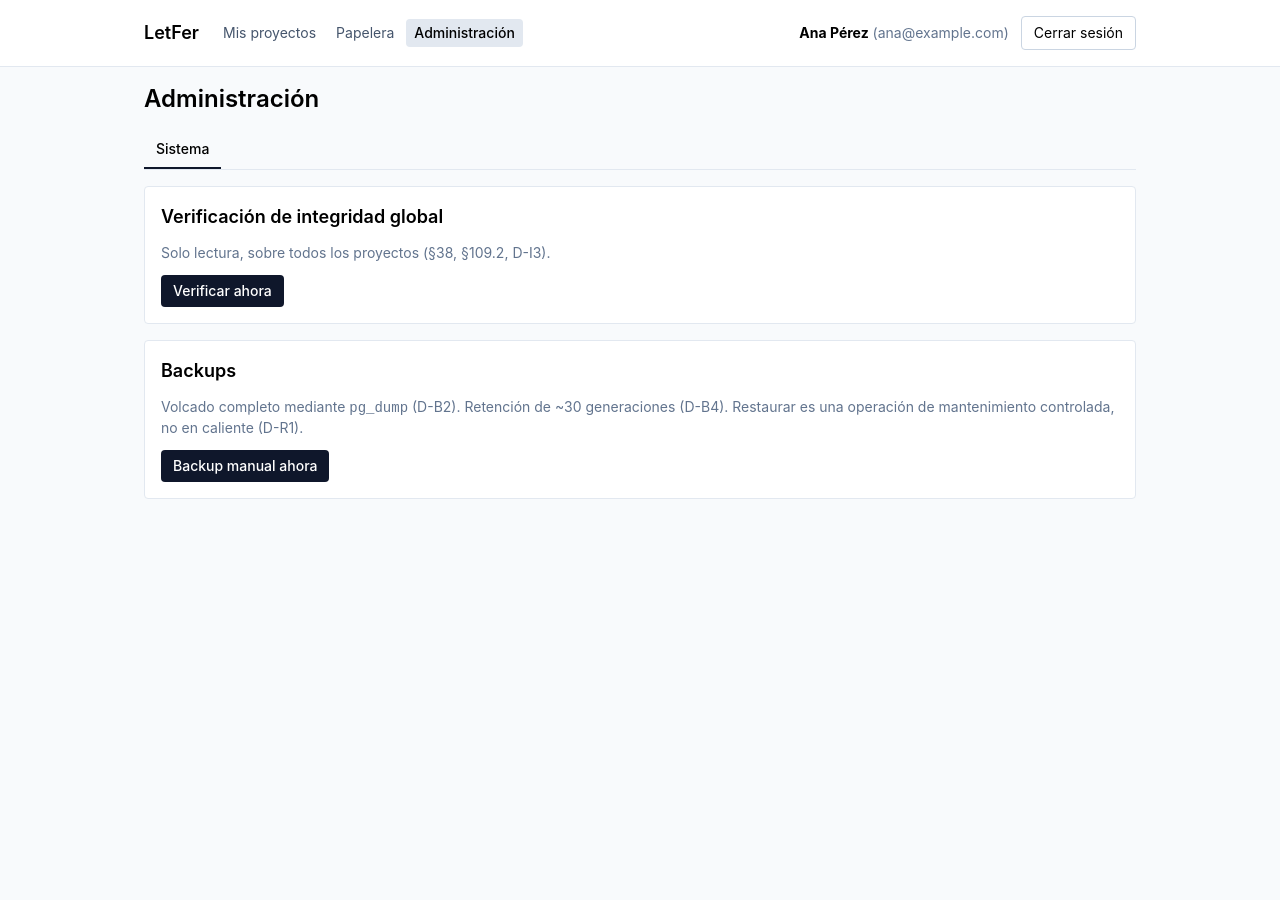
it: administración de la instancia (§37, §38, §109) › ejecuta la verificación global y muestra el resultado
Click the button "Verificar ahora" at (222, 291), box [161, 275, 284, 307]
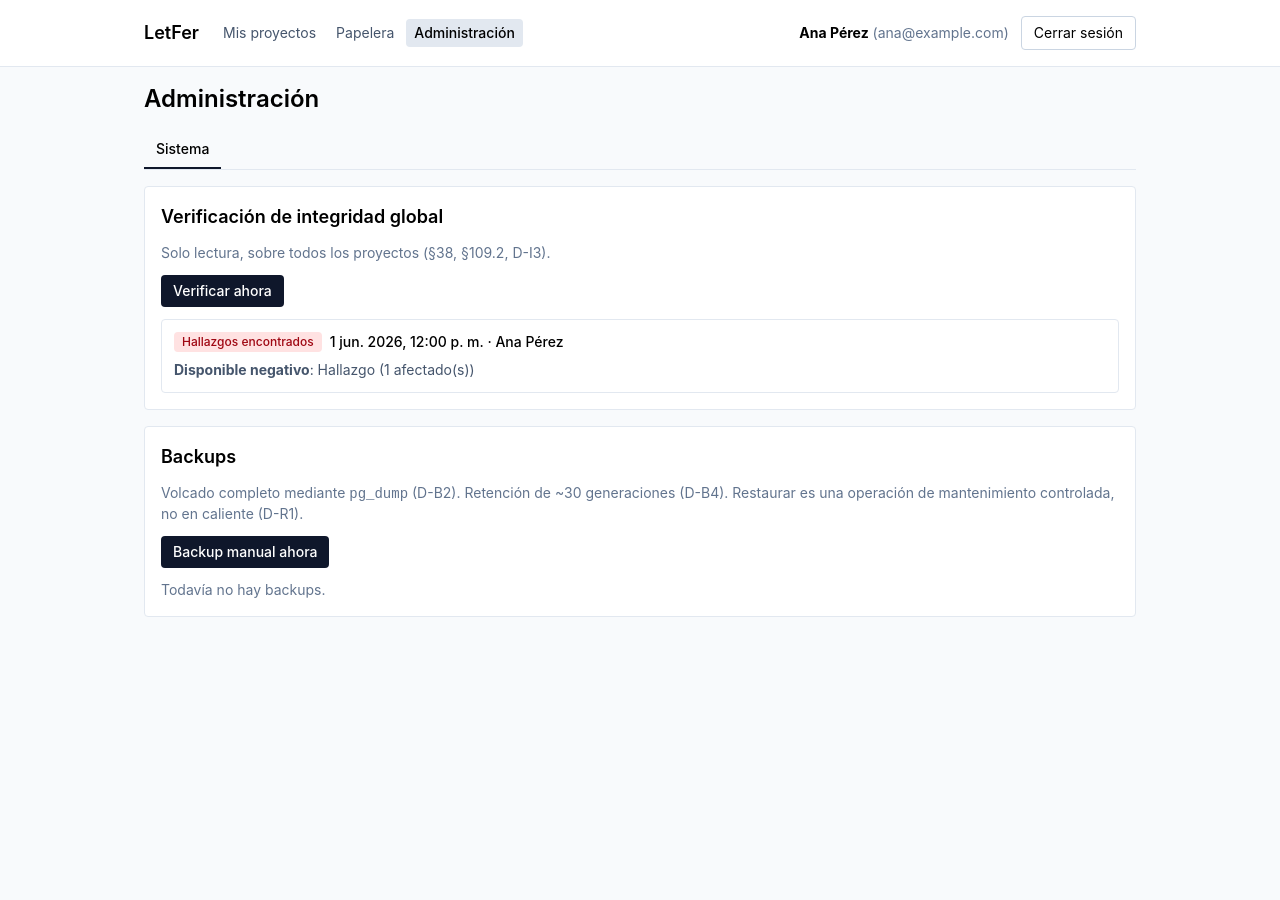
Now the text "Hallazgos encontrados" is shown, box [174, 332, 322, 352]
Now the text "Disponible negativo" is shown, box [174, 361, 310, 378]
